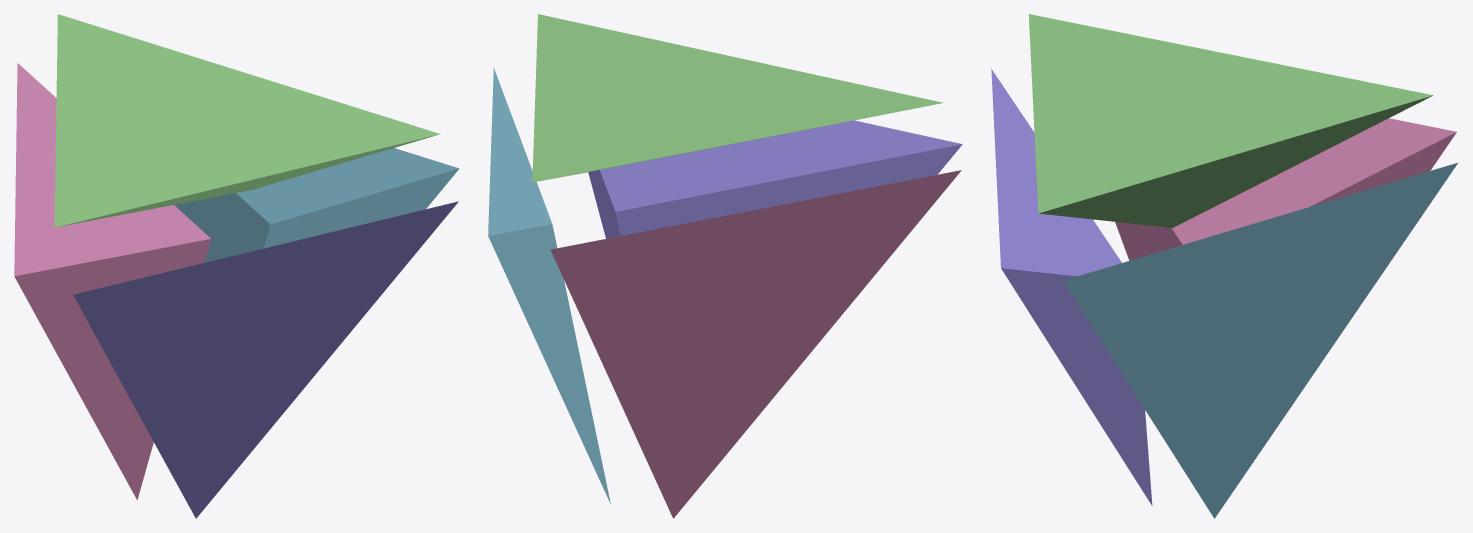
The model's file is example.gltf.
The picture shows the model from 3 angles, left to right: view 1: azimuth 30°, elevation 25°; view 2: azimuth 150°, elevation 25°; view 3: azimuth 270°, elevation 25°; orthographic projection. The views are drawn at different scales.
Parts seen in each view (by area): view 1: 5cell; view 2: 5cell; view 3: 5cell.
Boxes of the visible parts, x1,y1,x2,y2 form: 5cell: (14, 14, 459, 518); 5cell: (488, 14, 962, 518); 5cell: (991, 14, 1457, 518).
Size of the model in its own units: 0.6557 by 0.5613 by 0.578.
